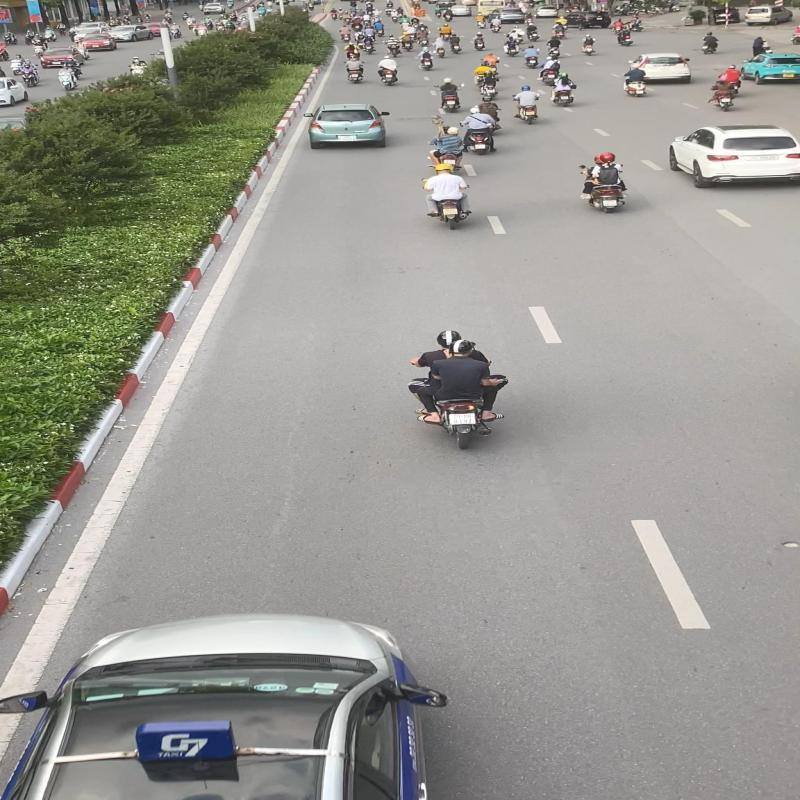helmet: (437, 330, 462, 350), (448, 339, 474, 356)
licenseplate: (446, 412, 478, 425)
motorcyclist: (408, 325, 510, 450)
